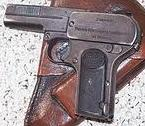gun: (1, 1, 145, 126)
